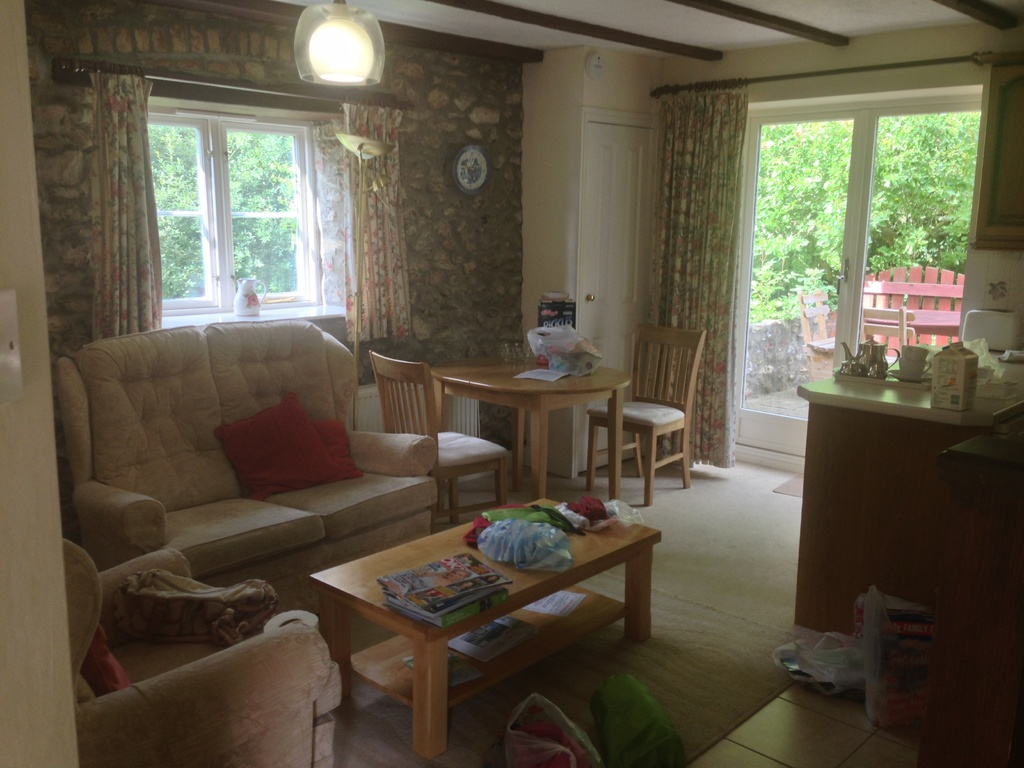Cabinetry: (779, 311, 1015, 757), (968, 50, 1023, 255)
